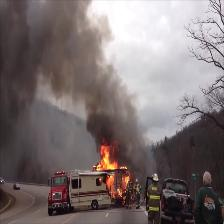fire: (100, 147, 115, 169)
smoke: (5, 16, 90, 70)
